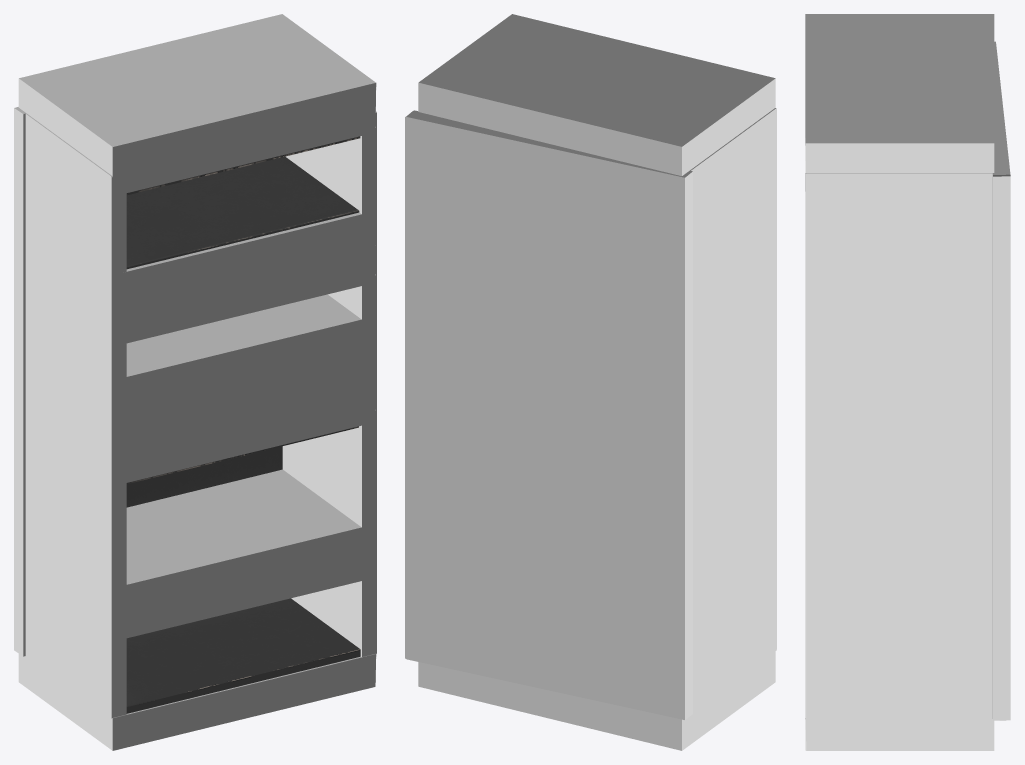
Rendered from SM_Servers_01.fbx.
3 views of the same model, side by side, from view 1: azimuth 30°, elevation 25°; view 2: azimuth 150°, elevation 25°; view 3: azimuth 270°, elevation 25° (orthographic).
Visible parts, largest first — view 1: SM_Servers_01_ConvexHulls, SM_Servers_01_LOD0; view 2: SM_Servers_01_ConvexHulls; view 3: SM_Servers_01_ConvexHulls.
Boxes of the visible parts, x1,y1,x2,y2 form: SM_Servers_01_ConvexHulls: (14,14,376,750); SM_Servers_01_LOD0: (126,136,360,713); SM_Servers_01_ConvexHulls: (405,14,776,750); SM_Servers_01_ConvexHulls: (805,14,1010,750).
Bounding box in the file's own units: 112 × 72.57 × 237.
